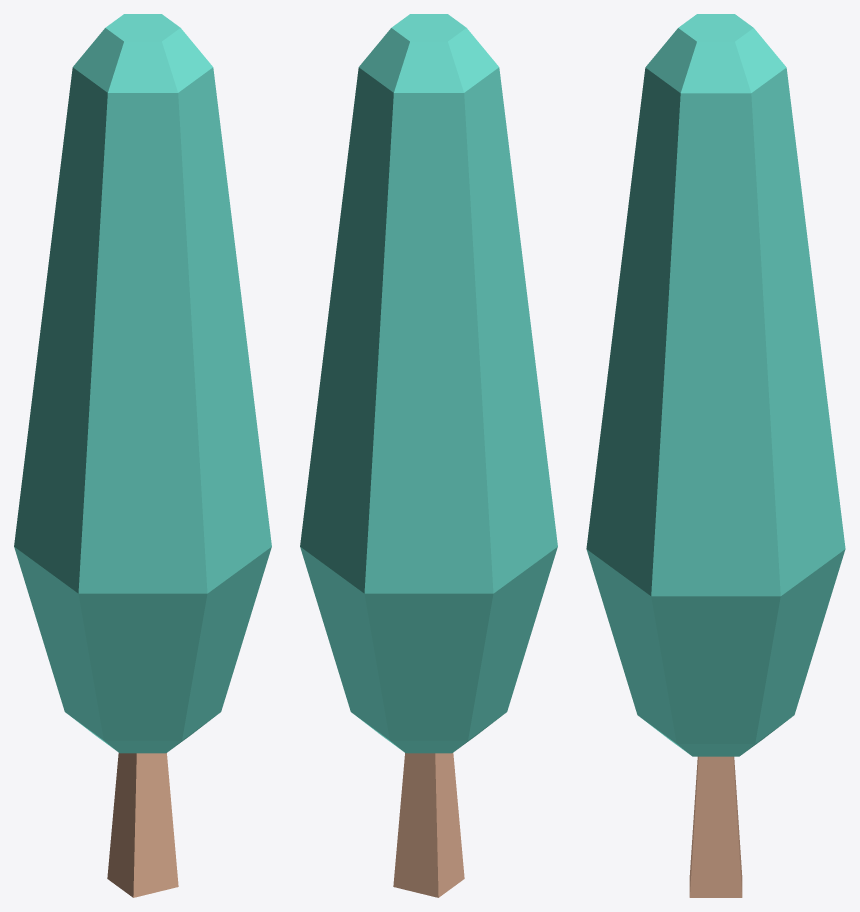
File: tree_tall.gltf
The picture shows the model from 3 angles, left to right: view 1: azimuth 30°, elevation 25°; view 2: azimuth 150°, elevation 25°; view 3: azimuth 270°, elevation 25°; orthographic projection.
Visible parts, largest first — view 1: tree_tall; view 2: tree_tall; view 3: tree_tall.
Boxes of the visible parts, <box> form: tree_tall: <box>14,14,271,897</box>; tree_tall: <box>300,14,557,897</box>; tree_tall: <box>586,14,845,897</box>.
Size of the model in its own units: 0.3996 by 1.69 by 0.4614.
